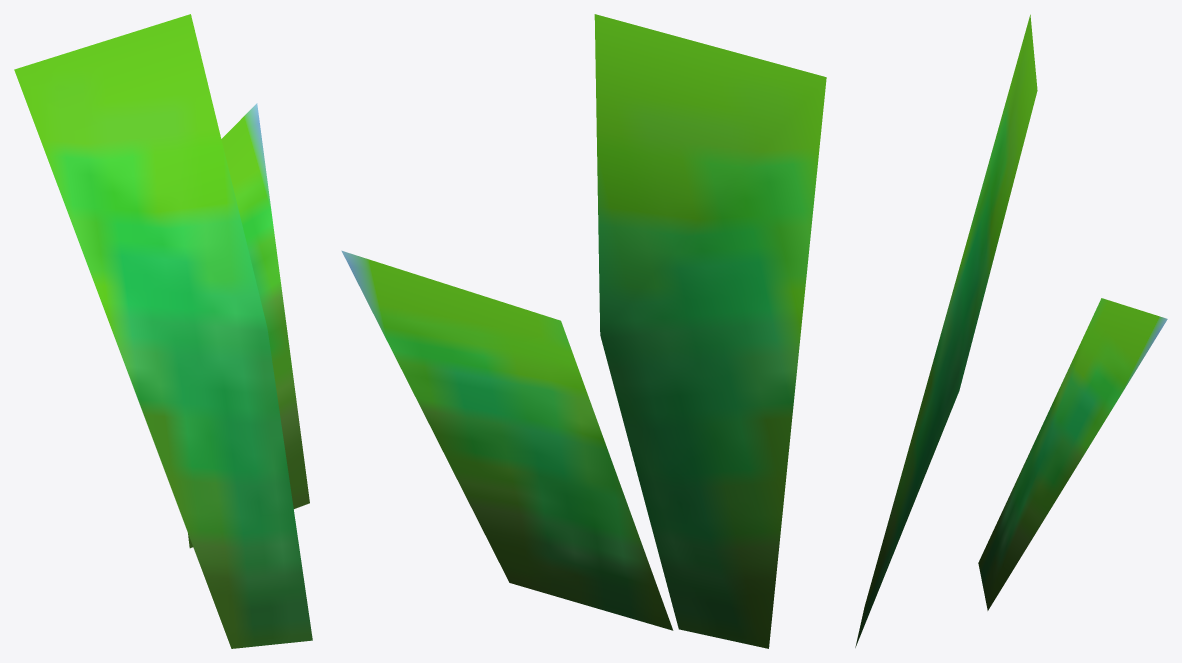
Rendered from fg_grassA.dae.
The picture shows the model from 3 angles, left to right: view 1: azimuth 30°, elevation 25°; view 2: azimuth 150°, elevation 25°; view 3: azimuth 270°, elevation 25°; orthographic projection. The views are drawn at different scales.
Visible parts, largest first — view 1: fg_grassA; view 2: fg_grassA; view 3: fg_grassA.
Boxes of the visible parts, x1,y1,x2,y2 form: fg_grassA: (14, 14, 312, 648); fg_grassA: (341, 14, 826, 648); fg_grassA: (855, 14, 1167, 647).
Size of the model in its own units: 11.97 by 20.54 by 10.68.
Materials: 1 (1 with a texture image).
